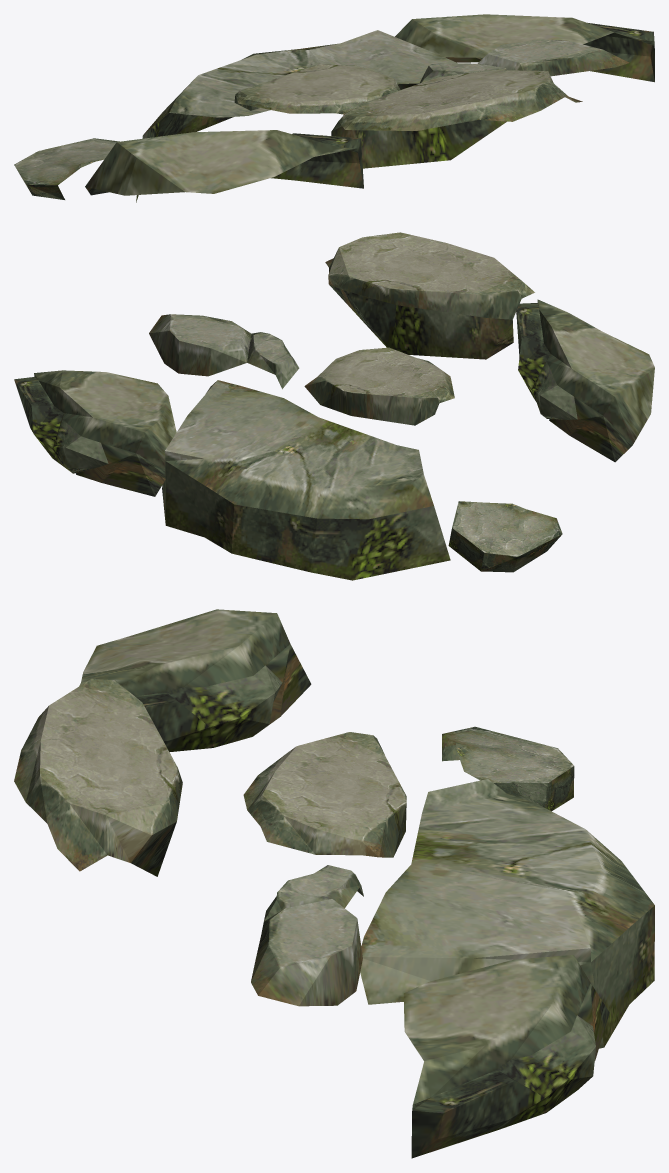
Rendered from 7003_Item_shitou_1.FBX.
3 renders of one model, top to bottom at view 1: azimuth 30°, elevation 25°; view 2: azimuth 150°, elevation 25°; view 3: azimuth 270°, elevation 25°, orthographic. The views are drawn at different scales.
Parts seen in each view (by area): view 1: 7003_Item_shitou_1; view 2: 7003_Item_shitou_1; view 3: 7003_Item_shitou_1.
Part boxes in pixels (<box>): 7003_Item_shitou_1: <box>14,14,654,202</box>; 7003_Item_shitou_1: <box>14,232,654,580</box>; 7003_Item_shitou_1: <box>14,609,654,1158</box>.
Bounding box in the file's own units: 678 × 450 × 193.
1 material, 1 textured.
